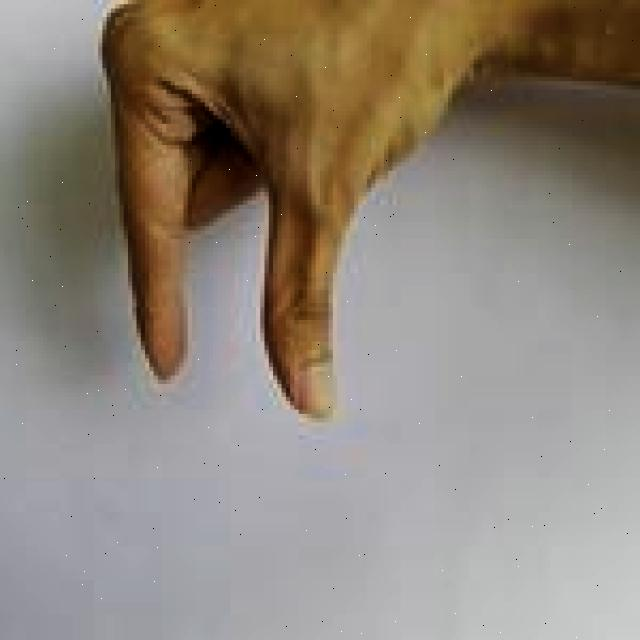Q: (80, 0, 477, 431)
